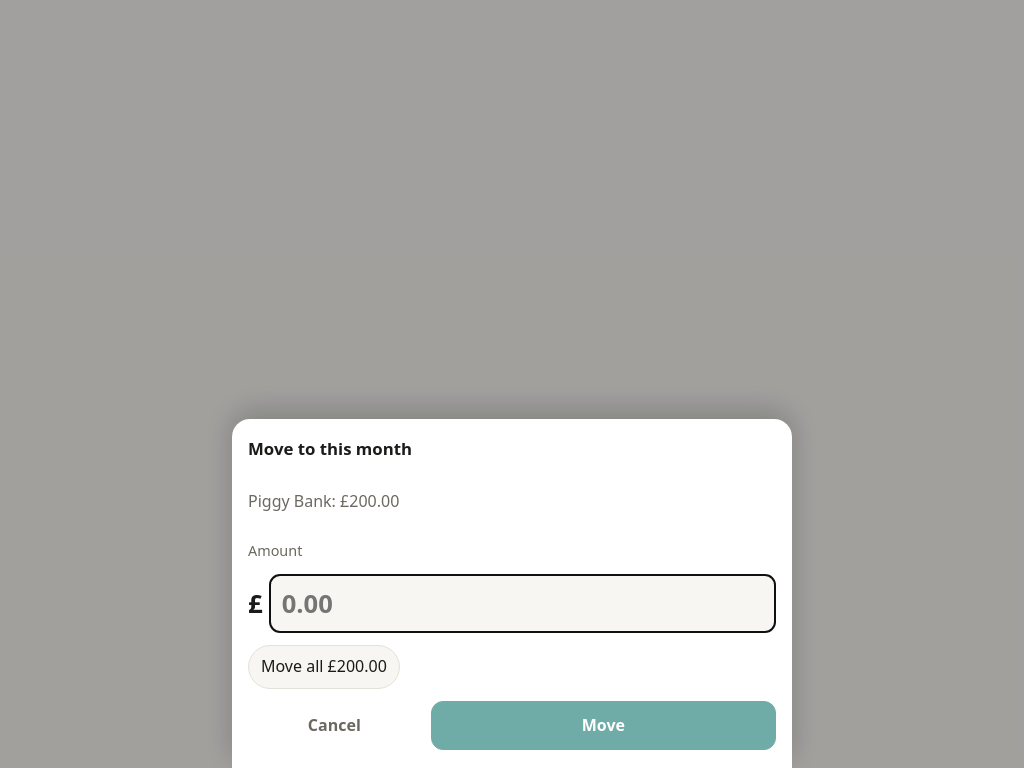
rejects more than the balance
Type "200.01" into the field labelled "Amount" at (522, 603), box left=269, top=574, right=776, bottom=633
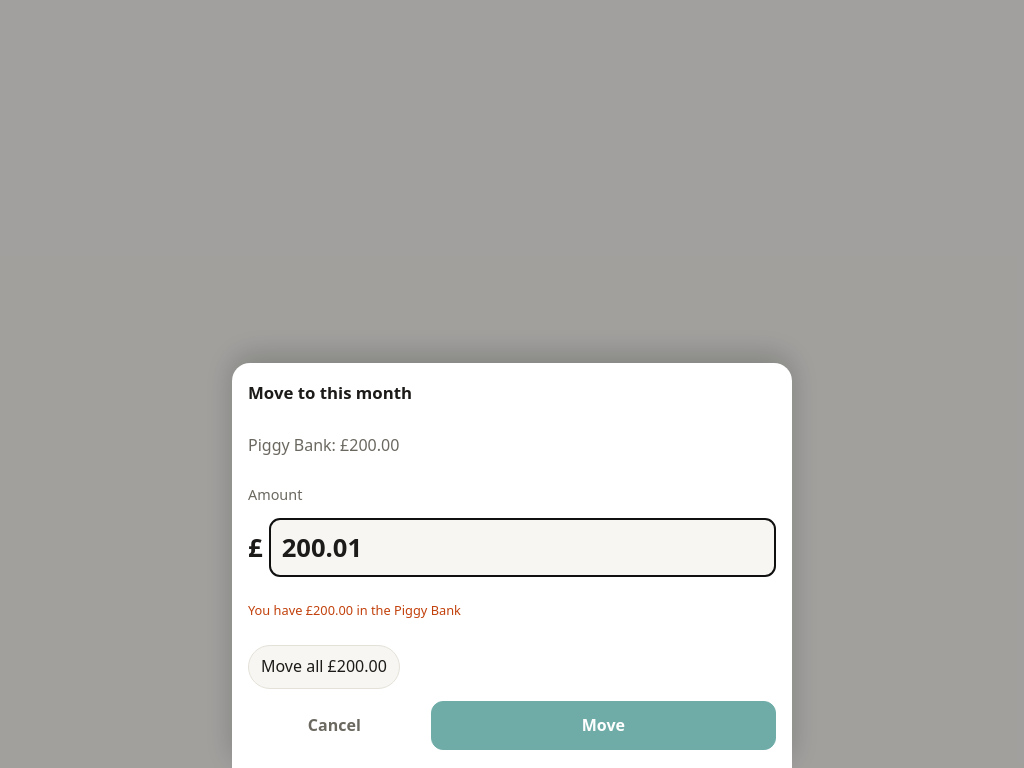
Expected: the button "Move" is disabled, left=431, top=701, right=776, bottom=750
Now the text "You have £200.00 in the Piggy Bank" is shown, box left=248, top=602, right=461, bottom=620
